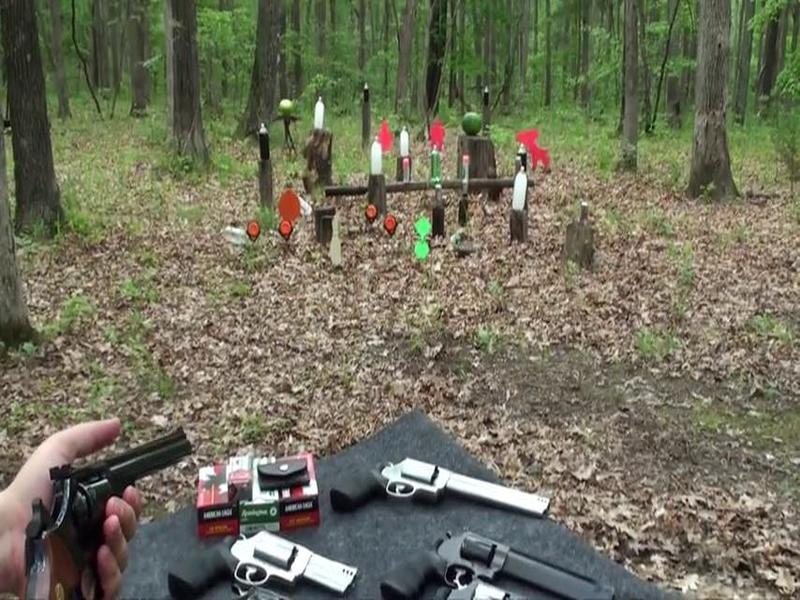Revolver: (18, 419, 195, 600)
